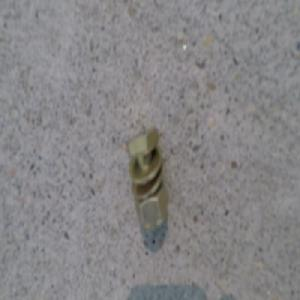BoltNutSet: (129, 128, 166, 223)
